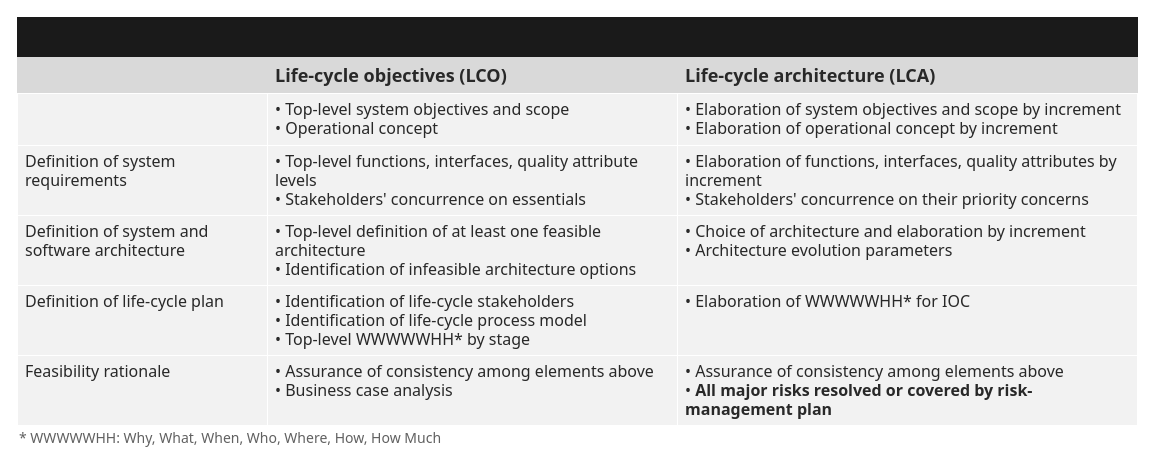
Image size: 1155x467. Some labels were removed from this diagram. Each missing label, with the box of its shape:
Definition of operational concept: (16, 92, 268, 146)
Milestone element: (16, 56, 268, 94)
TABLE 1. ELEMENTS OF CRITICAL FRONT-END MILESTONES: (16, 16, 1138, 58)
